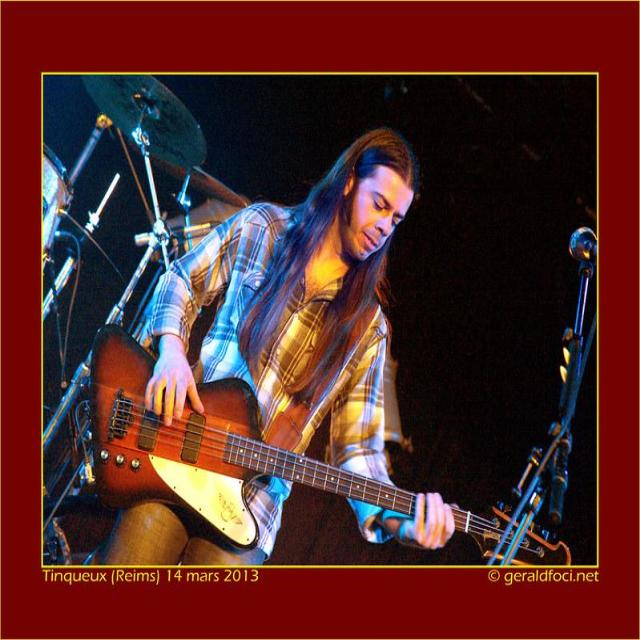bass: (90, 326, 415, 548)
